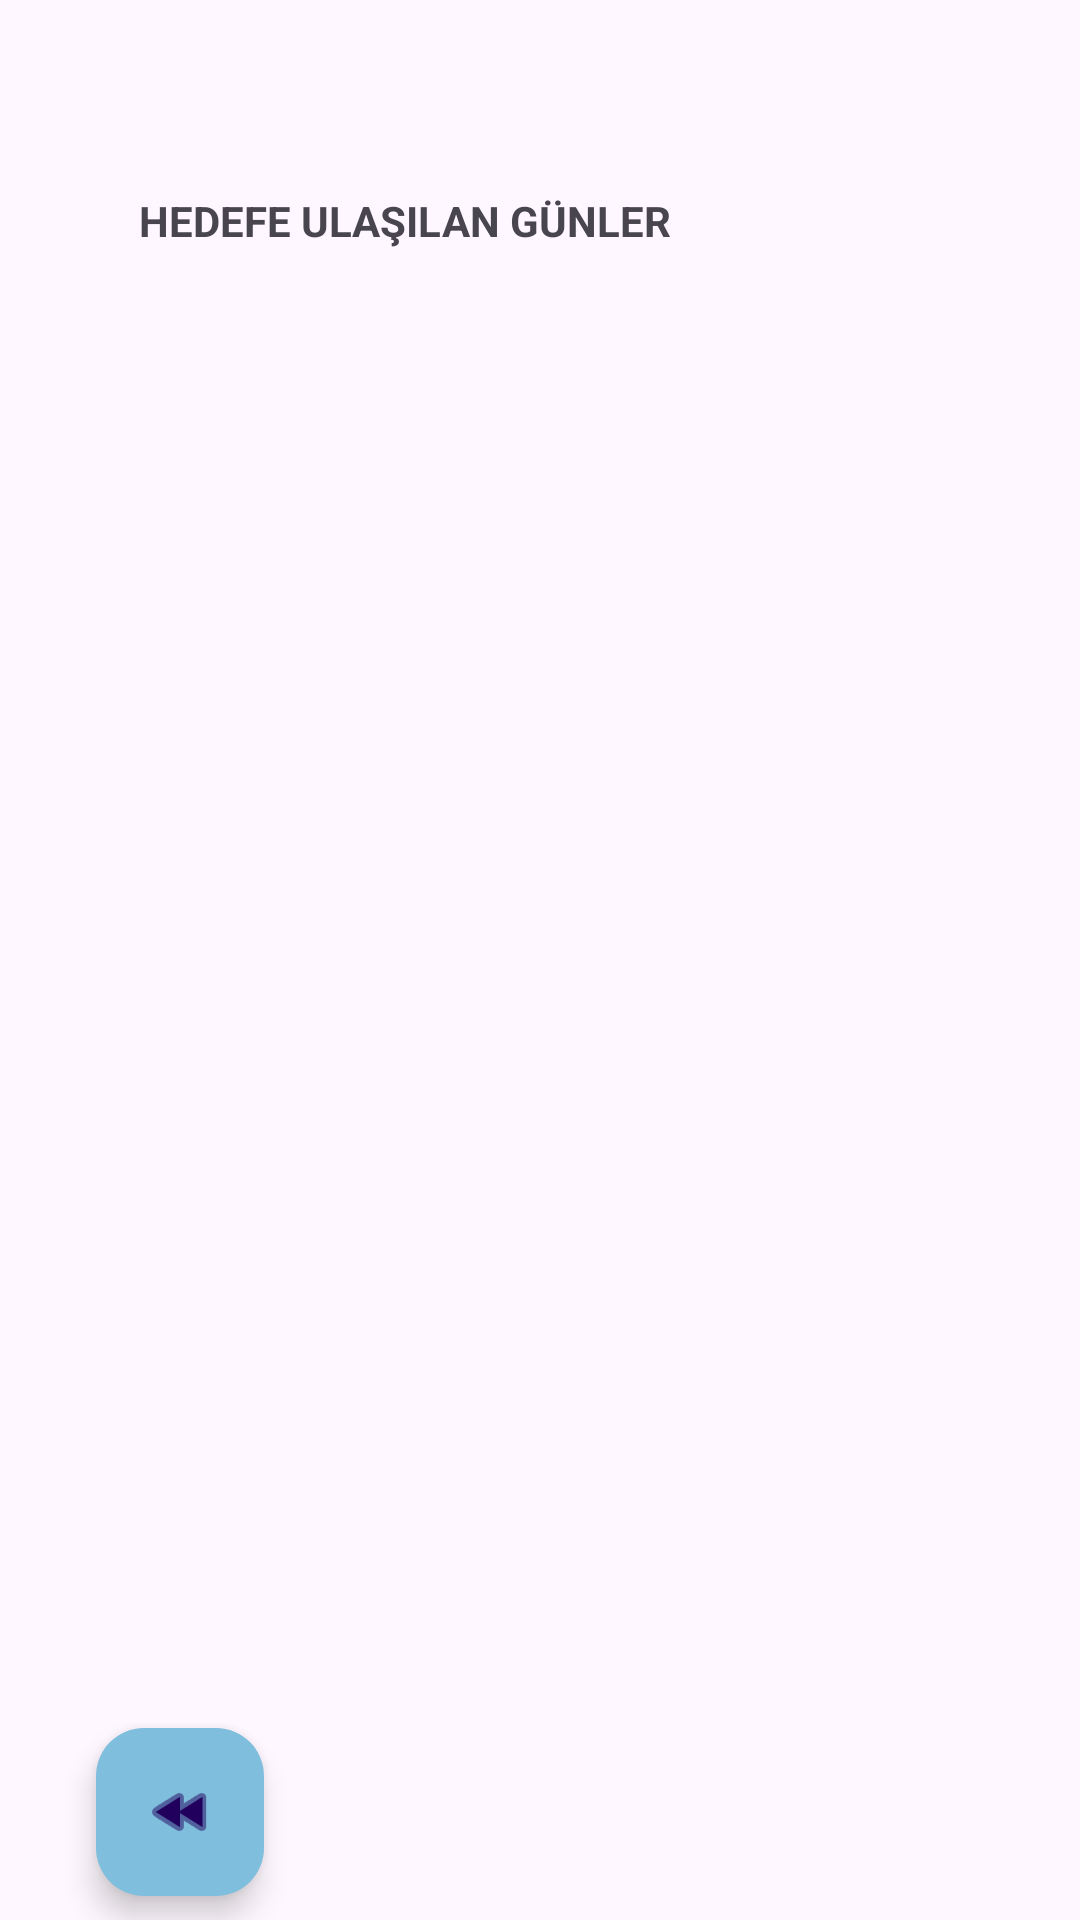

Icons on this 1080px x 1920px Android screen, each with the point to tap as (x,y):
rew: (180,1812)
